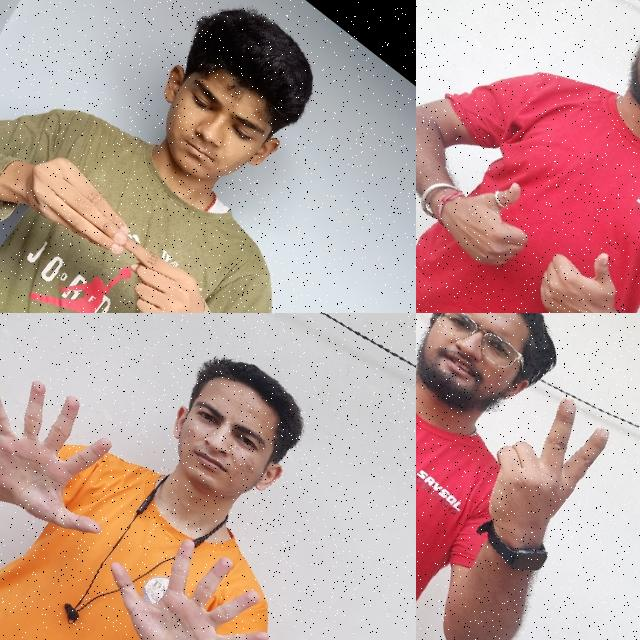Five Fathers: (0, 135, 244, 313)
Moutza: (0, 335, 169, 572), (69, 493, 300, 640)
Reversed Victory: (446, 373, 637, 574)
Thumbs Up: (416, 145, 557, 287), (516, 223, 640, 313)
